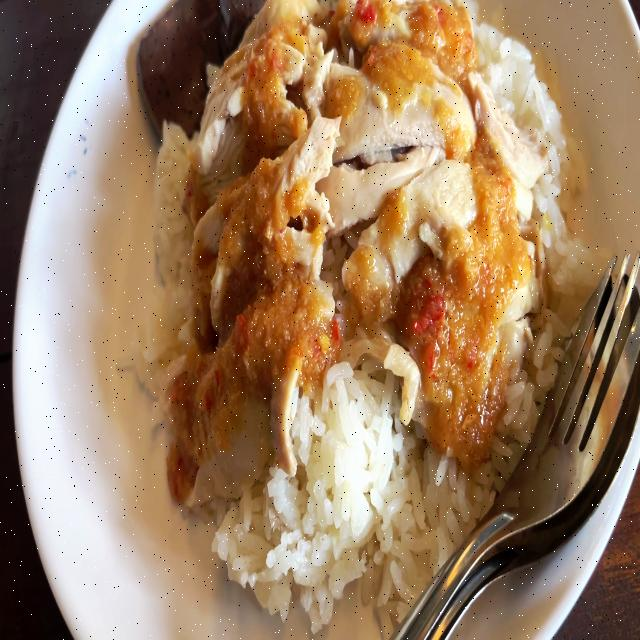boiled_chicken: (206, 5, 513, 478)
boiled_chicken_blood_jelly: (130, 0, 232, 140)
chicken_rice: (124, 0, 568, 614)
